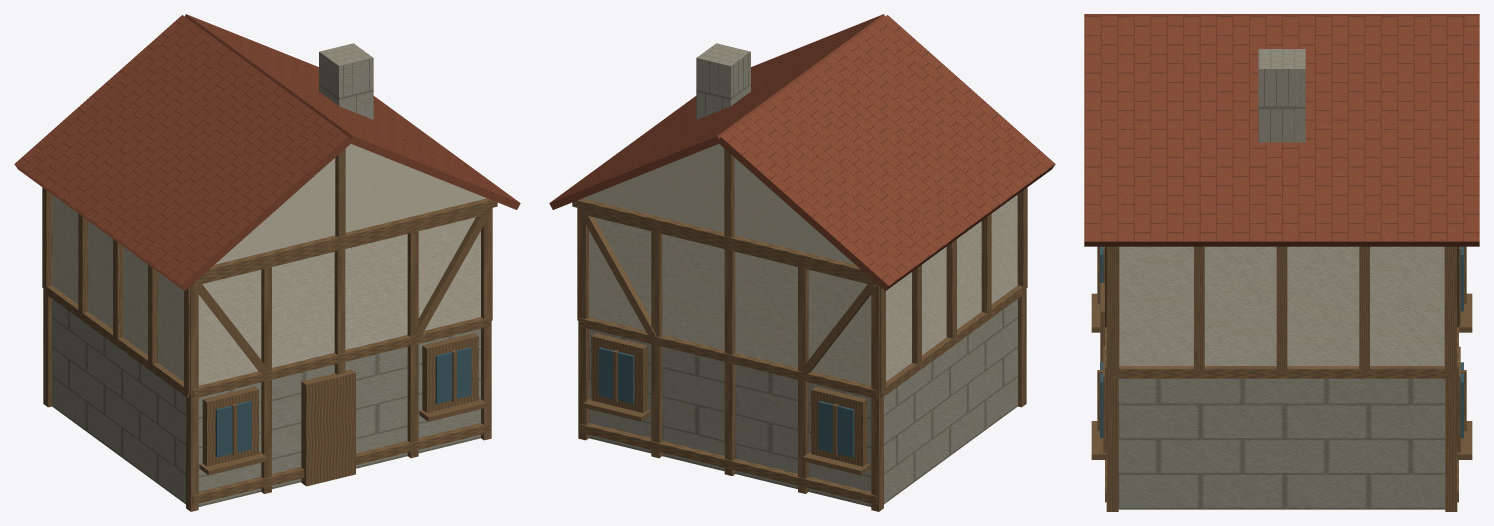
3 renders of one model, left to right at view 1: azimuth 30°, elevation 25°; view 2: azimuth 150°, elevation 25°; view 3: azimuth 270°, elevation 25°, orthographic. The views are drawn at different scales.
Visible parts, largest first — view 1: house-roof, house-wood, house-plaster, house-stone, house-glass; view 2: house-roof, house-plaster, house-wood, house-stone, house-glass; view 3: house-roof, house-stone, house-plaster, house-wood, house-glass.
Boxes of the visible parts, x1,y1,x2,y2 form: house-roof: (14,14,520,291); house-wood: (42,148,497,511); house-plaster: (52,144,486,385); house-stone: (52,43,480,506); house-glass: (215,347,471,457); house-roof: (549,14,1055,291); house-plaster: (583,144,1017,385); house-wood: (572,148,1027,511); house-stone: (589,43,1017,506); house-glass: (598,347,854,457); house-roof: (1084,14,1479,246); house-stone: (1118,49,1445,509); house-plaster: (1119,246,1444,365); house-wood: (1091,246,1472,511); house-glass: (1100,246,1463,438).
Size of the model in its own units: 7.88 by 7.7 by 6.7.
Materials: 5 (5 with a texture image).
